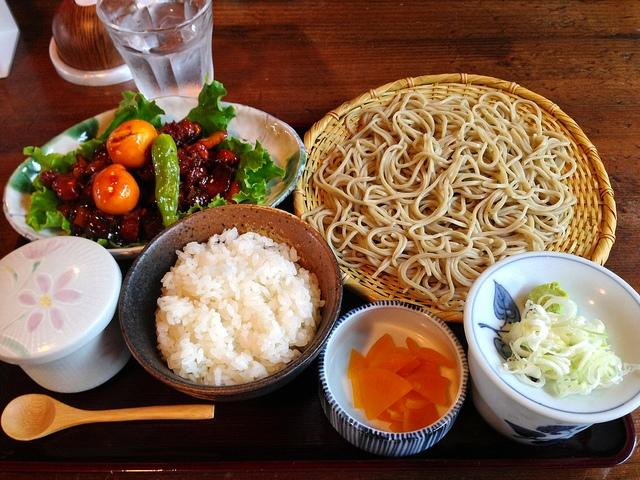lettuce: (230, 139, 286, 205), (98, 90, 166, 142), (183, 80, 236, 138), (23, 138, 103, 176), (27, 176, 72, 236)
tomato: (106, 119, 158, 169), (92, 164, 140, 214)
